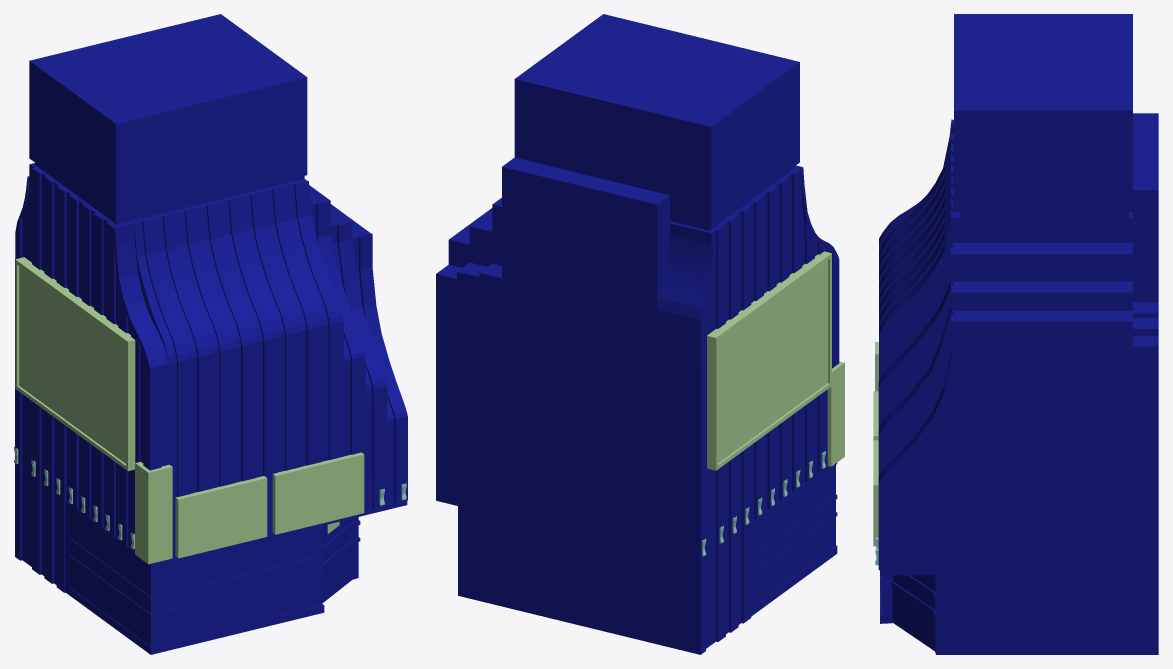
File: curvybuilding_2.FBX
3 renders of one model, left to right at view 1: azimuth 30°, elevation 25°; view 2: azimuth 150°, elevation 25°; view 3: azimuth 270°, elevation 25°, orthographic. The views are drawn at different scales.
Parts seen in each view (by area): view 1: main store, signs, lampthing; view 2: main store, signs, lampthing; view 3: main store, signs.
Part boxes in pixels (box(x1,y1,x2,y2)): main store: box(15, 14, 407, 654); signs: box(15, 257, 364, 564); lampthing: box(14, 447, 406, 549); main store: box(436, 14, 839, 654); signs: box(707, 251, 844, 470); lampthing: box(702, 451, 825, 556); main store: box(878, 14, 1158, 654); signs: box(873, 342, 878, 546).
Bounding box in the file's own units: 291 × 528 × 262.
